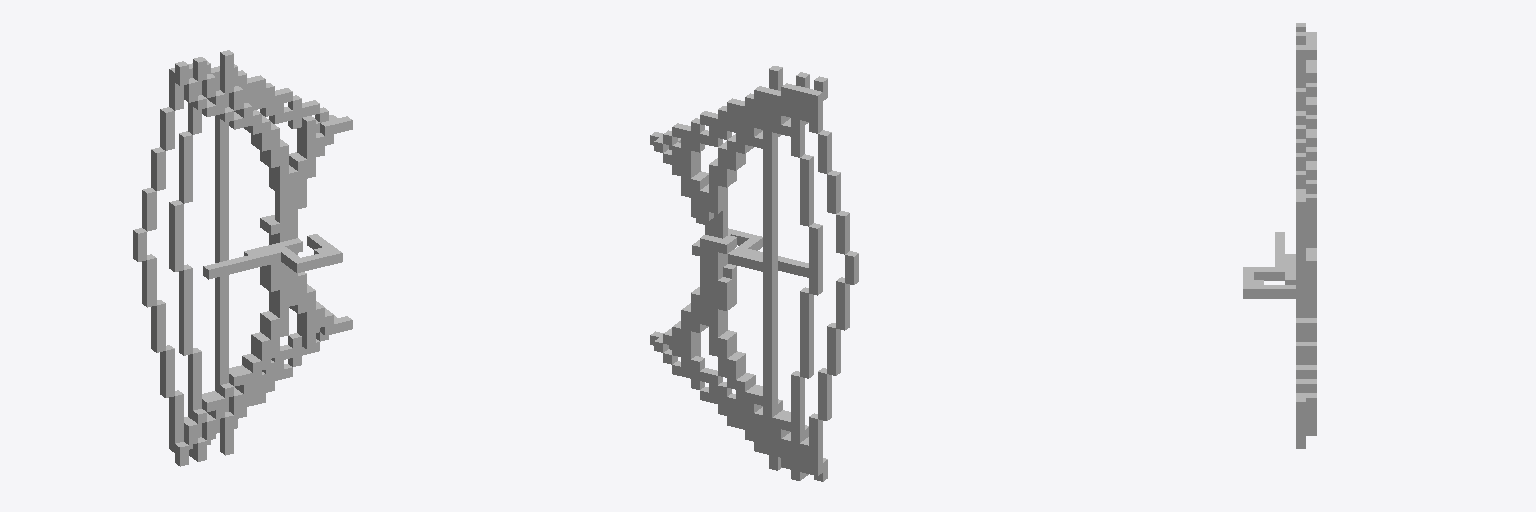
The model's file is HuntressBow.obj.
3 views of the same model, side by side, from view 1: azimuth 30°, elevation 25°; view 2: azimuth 150°, elevation 25°; view 3: azimuth 270°, elevation 25° (orthographic).
Parts seen in each view (by area): view 1: 0-bow.frame0-opaque, 3-bow.frame3-transparent, 1-bow.frame1-transparent, 0-bow.frame0-transparent, 3-bow.frame3-opaque, 1-bow.frame1-opaque, 4-bow.arrow-opaque; view 2: 0-bow.frame0-opaque, 1-bow.frame1-transparent, 0-bow.frame0-transparent, 3-bow.frame3-transparent, 3-bow.frame3-opaque, 1-bow.frame1-opaque, 4-bow.arrow-opaque; view 3: 0-bow.frame0-opaque, 4-bow.arrow-opaque, 0-bow.frame0-transparent.
Boxes of the visible parts, x1=… form: 0-bow.frame0-opaque: x1=215, y1=50, x2=352, y2=455; 3-bow.frame3-transparent: x1=133, y1=66, x2=301, y2=449; 1-bow.frame1-transparent: x1=169, y1=61, x2=319, y2=457; 0-bow.frame0-transparent: x1=215, y1=64, x2=328, y2=428; 3-bow.frame3-opaque: x1=169, y1=61, x2=315, y2=466; 1-bow.frame1-opaque: x1=189, y1=57, x2=333, y2=461; 4-bow.arrow-opaque: x1=203, y1=234, x2=342, y2=279; 0-bow.frame0-opaque: x1=650, y1=66, x2=782, y2=470; 1-bow.frame1-transparent: x1=672, y1=83, x2=822, y2=480; 0-bow.frame0-transparent: x1=663, y1=86, x2=777, y2=452; 3-bow.frame3-transparent: x1=691, y1=88, x2=858, y2=473; 3-bow.frame3-opaque: x1=681, y1=76, x2=827, y2=481; 1-bow.frame1-opaque: x1=669, y1=72, x2=809, y2=476; 4-bow.arrow-opaque: x1=692, y1=228, x2=808, y2=277; 0-bow.frame0-opaque: x1=1296, y1=45, x2=1316, y2=448; 4-bow.arrow-opaque: x1=1243, y1=232, x2=1295, y2=298; 0-bow.frame0-transparent: x1=1306, y1=69, x2=1316, y2=434.
Bounding box in the file's own units: 23 × 42 × 7.